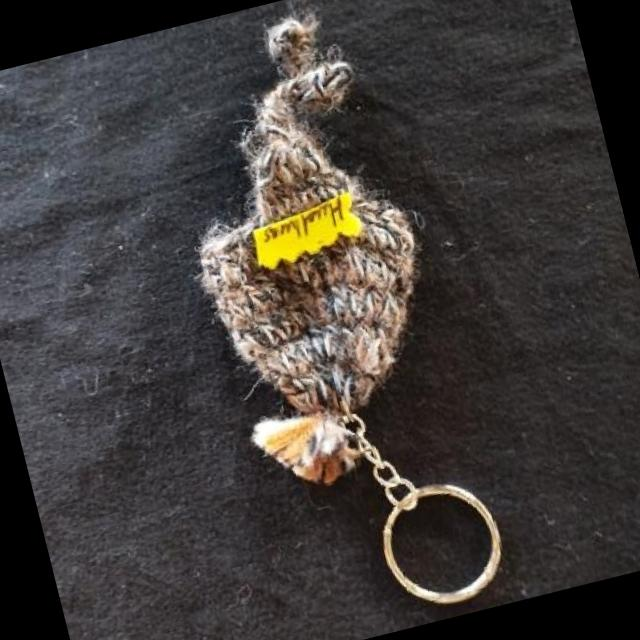Llavero: (139, 0, 471, 505)
